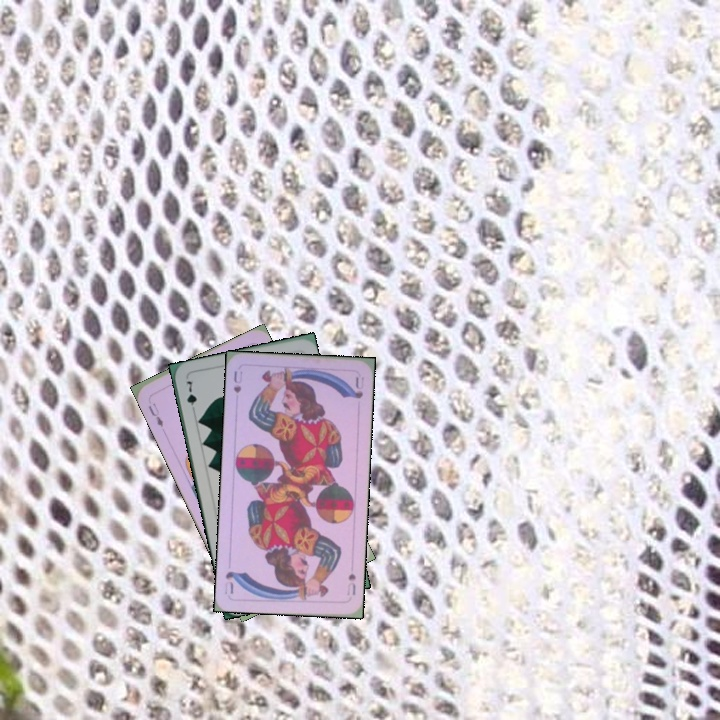EU: (144, 399, 166, 430)
G7: (182, 377, 199, 416)
SU: (343, 569, 358, 598), (230, 367, 245, 395)
